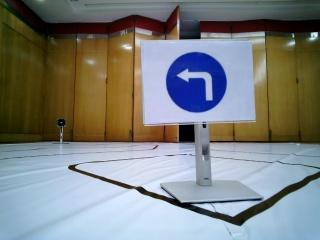left: (151, 51, 273, 126)
